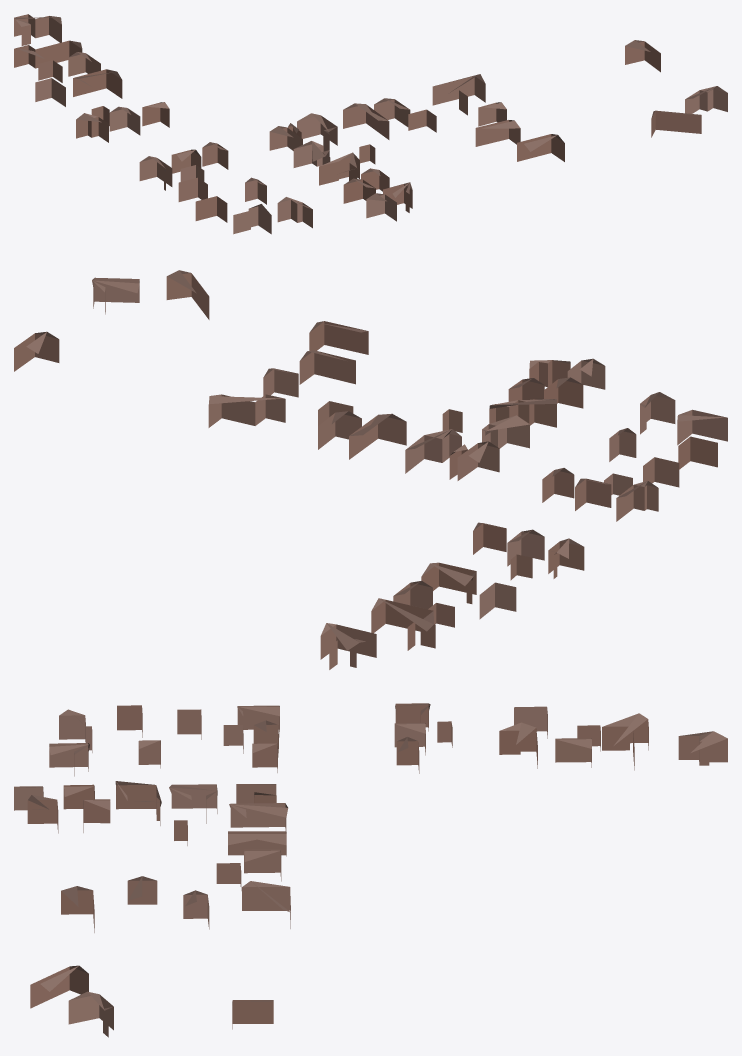
File: c_1639_17820_buildings_residential.glb
The picture shows the model from 3 angles, top to bottom: view 1: azimuth 30°, elevation 25°; view 2: azimuth 150°, elevation 25°; view 3: azimuth 270°, elevation 25°; orthographic projection. The views are drawn at different scales.
Visible parts, largest first — view 1: geometry_0; view 2: geometry_0; view 3: geometry_0.
Boxes of the visible parts, <box> form: geometry_0: <box>14,14,727,234</box>; geometry_0: <box>14,270,727,669</box>; geometry_0: <box>14,703,727,1037</box>.
Size of the model in its own units: 259 by 10.94 by 249.
